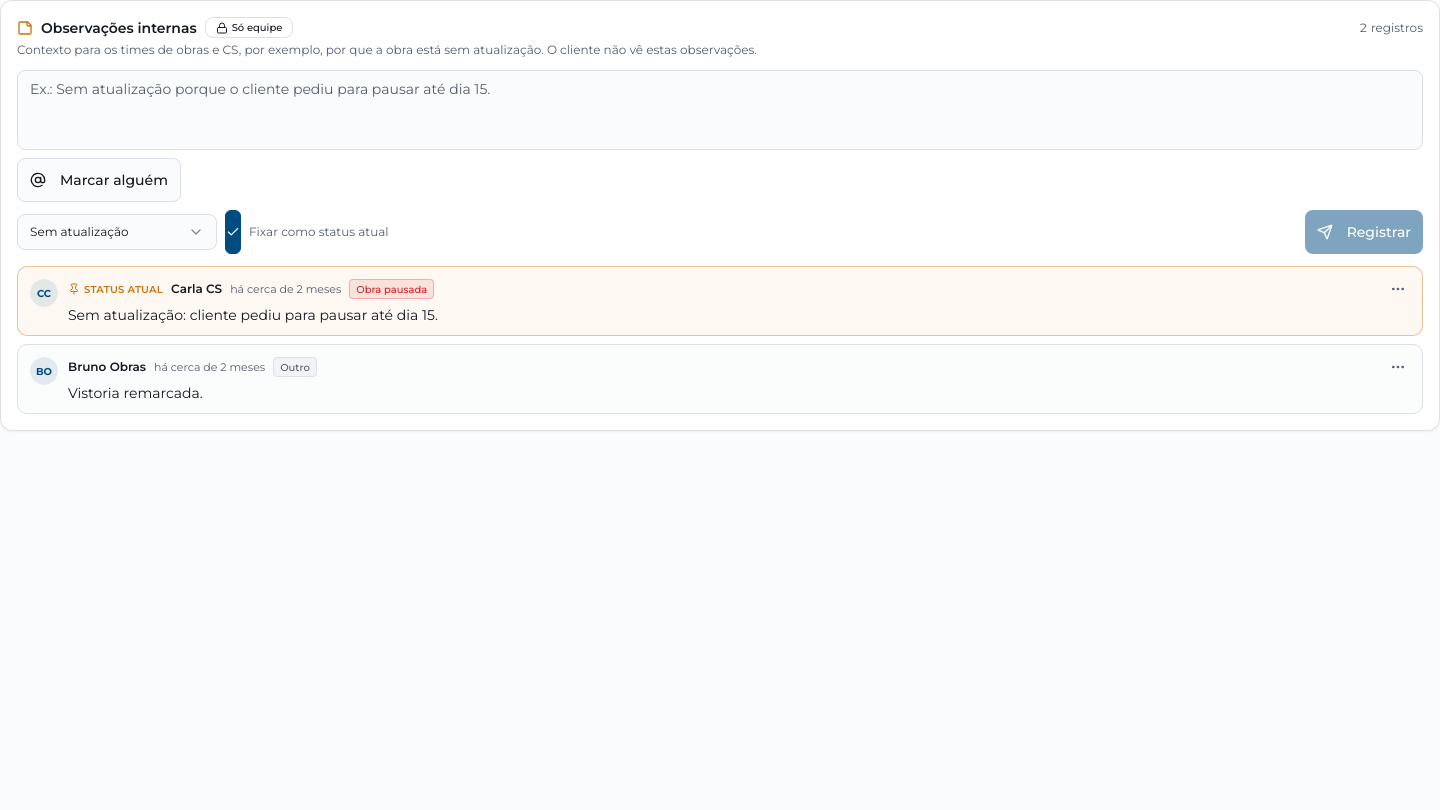
it: InternalNotesCard › menções › digitar @ abre a lista já filtrada
In the text box named "Nova observação interna": (720, 110) [17, 70, 1423, 150], type "Obra parada @"
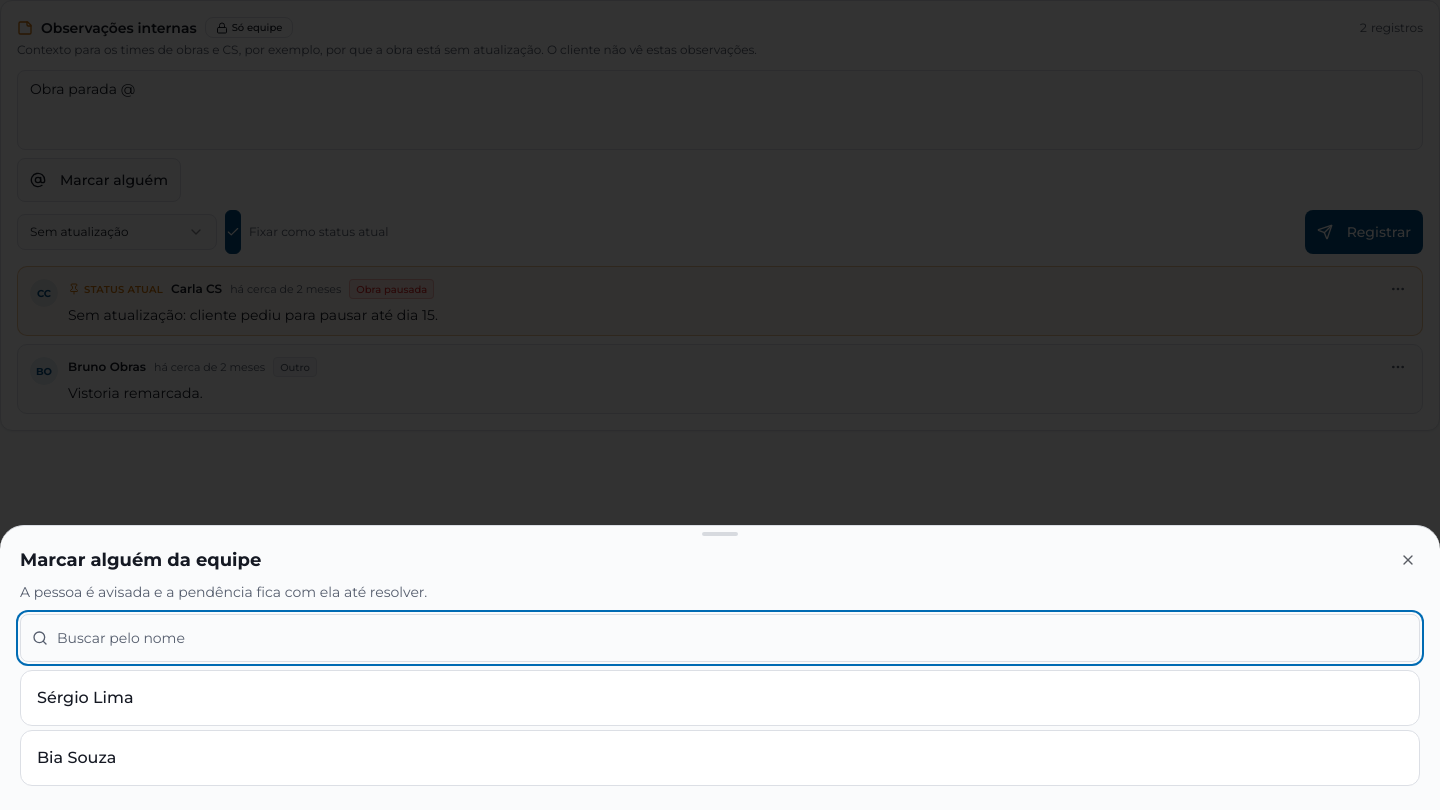
Click the button "Bia Souza": (77, 758) [20, 730, 1420, 786]
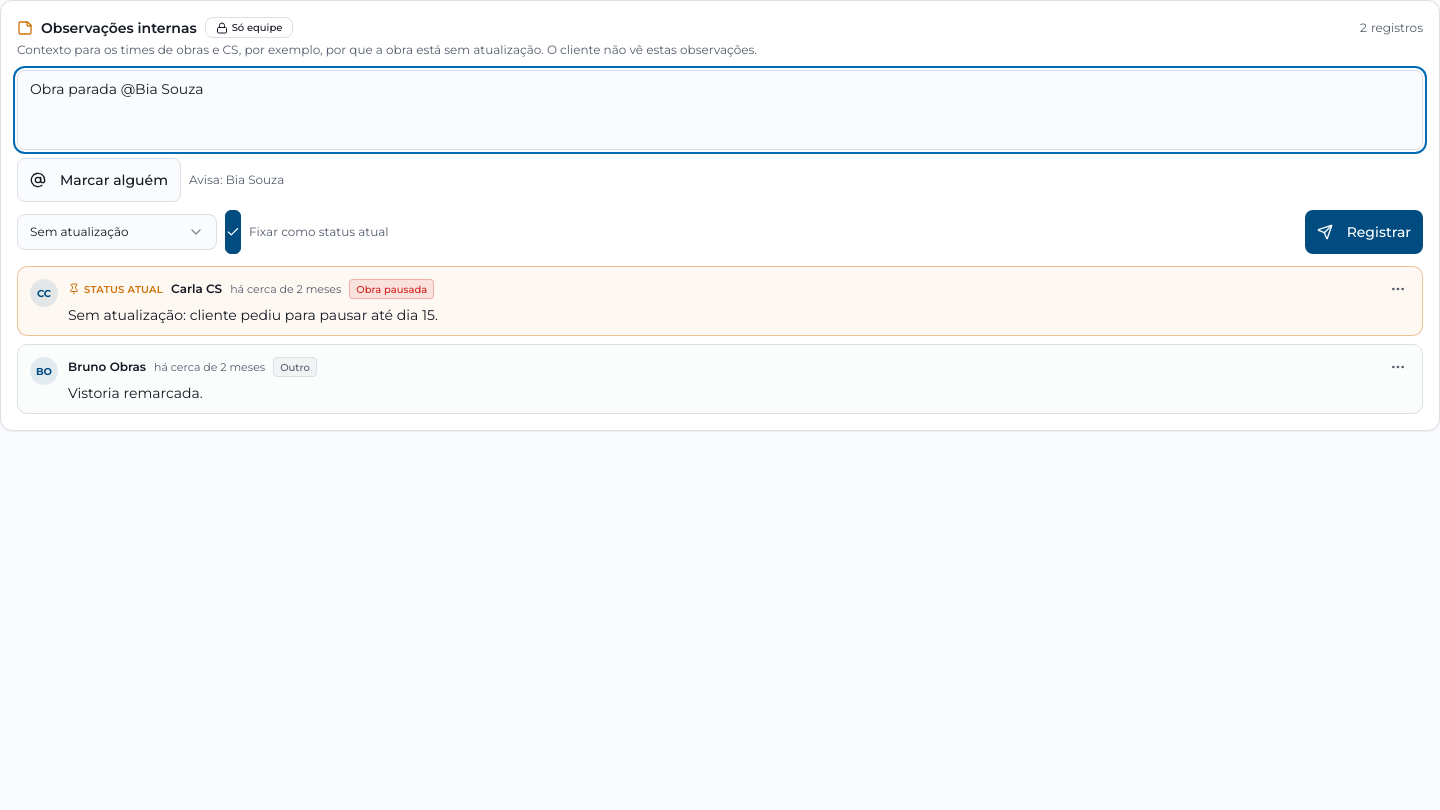
Expected: the text box named "Nova observação interna" holds "Obra parada @Bia Souza ", [17, 70, 1423, 150]
